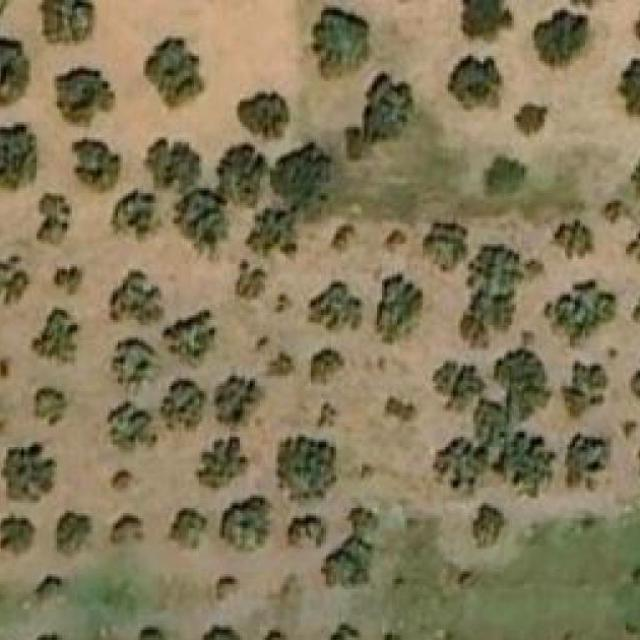Tree: (458, 239, 545, 350), (541, 278, 626, 352), (347, 69, 412, 161), (270, 140, 331, 225), (321, 506, 380, 587), (276, 435, 336, 509), (311, 8, 370, 82), (374, 274, 433, 346), (143, 38, 202, 106), (214, 142, 276, 206), (54, 66, 115, 130), (176, 188, 230, 254), (496, 348, 550, 414), (1, 442, 57, 503), (501, 435, 557, 496), (29, 310, 84, 369), (220, 496, 276, 550), (534, 8, 587, 64), (110, 269, 164, 323), (69, 137, 120, 193), (214, 376, 265, 432), (196, 436, 247, 491), (562, 358, 607, 419), (307, 282, 363, 331), (0, 122, 37, 191), (448, 52, 499, 102), (110, 338, 160, 389), (104, 401, 156, 450), (244, 208, 296, 257), (565, 432, 610, 488), (161, 379, 206, 435), (432, 362, 482, 412), (440, 437, 489, 488), (38, 0, 96, 43), (162, 313, 216, 358), (150, 137, 199, 186), (236, 92, 288, 137), (423, 224, 468, 272), (0, 35, 30, 106), (51, 510, 94, 559), (463, 0, 512, 41), (115, 191, 155, 237), (36, 196, 69, 247), (552, 218, 592, 259), (308, 345, 348, 386), (486, 158, 526, 196), (0, 516, 37, 557), (616, 59, 640, 120), (472, 506, 506, 549), (285, 516, 328, 550), (234, 259, 267, 300), (34, 386, 67, 427), (169, 508, 207, 541), (51, 264, 84, 295), (513, 105, 547, 135), (384, 393, 418, 422), (110, 515, 143, 544), (267, 353, 301, 377), (322, 621, 362, 640), (33, 574, 62, 599), (631, 350, 640, 410), (262, 625, 298, 640), (202, 627, 240, 640), (316, 404, 336, 428), (219, 574, 238, 599), (136, 627, 167, 640), (110, 469, 130, 488), (631, 292, 640, 330), (631, 232, 640, 265), (623, 421, 638, 440), (28, 635, 59, 640)
